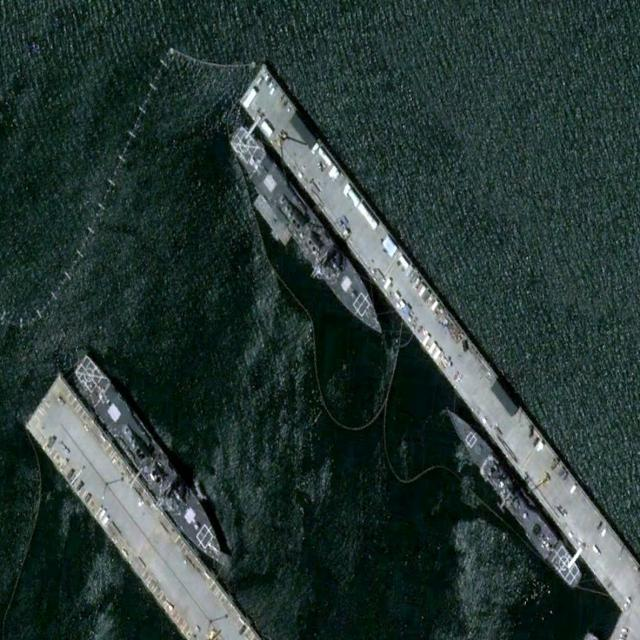Destroyer: (68, 349, 237, 577), (225, 119, 392, 344)
Frigate: (441, 401, 588, 592)
